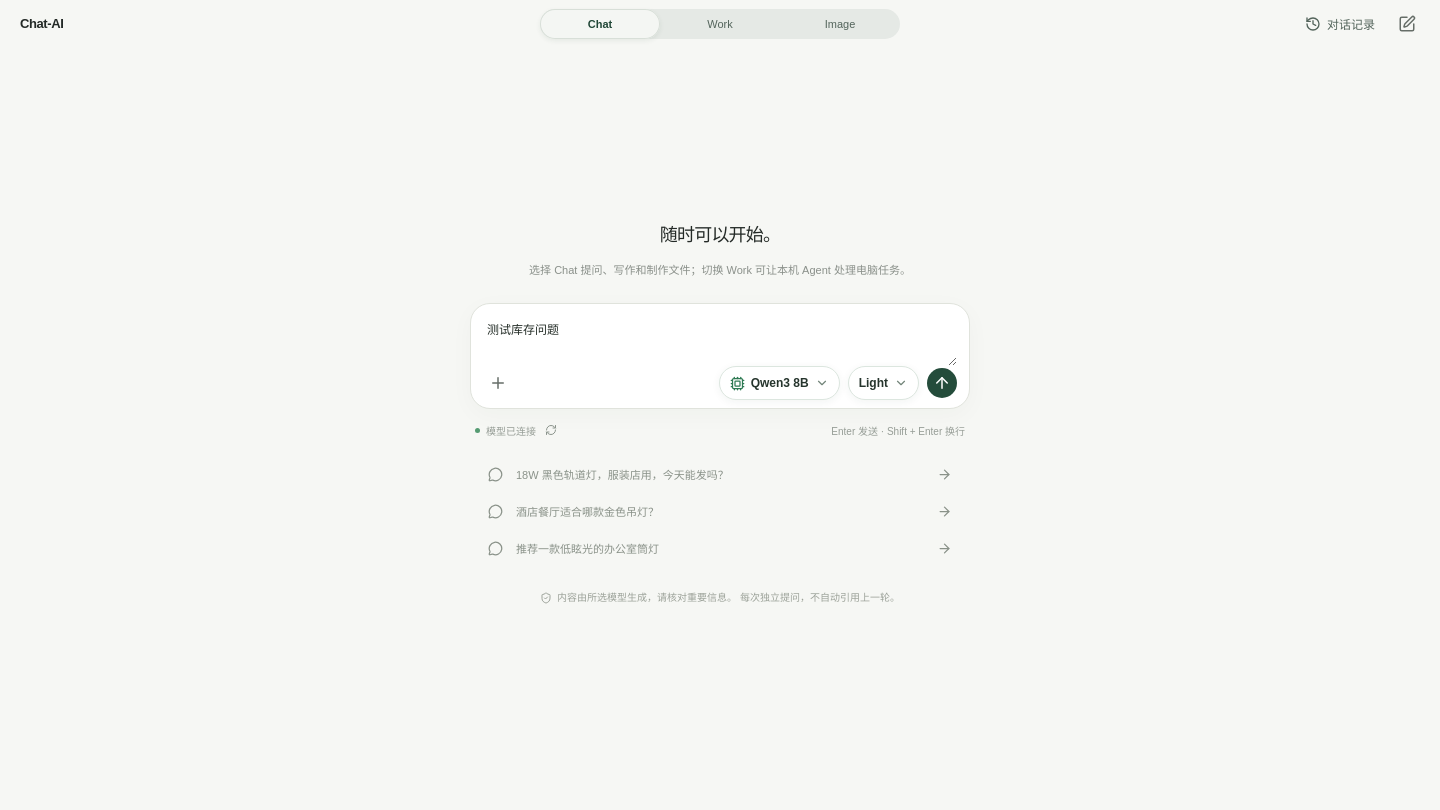
Scenario: smart search real-model entry › does not label length-exhausted output as a completed answer
expect the text "模型已连接" is shown: met, box [475,421,560,439]
expect the button named "新问题" is enabled: met, box [1392,10,1420,38]
Click the button named "发送问题": [942, 383] box [927,368,957,398]
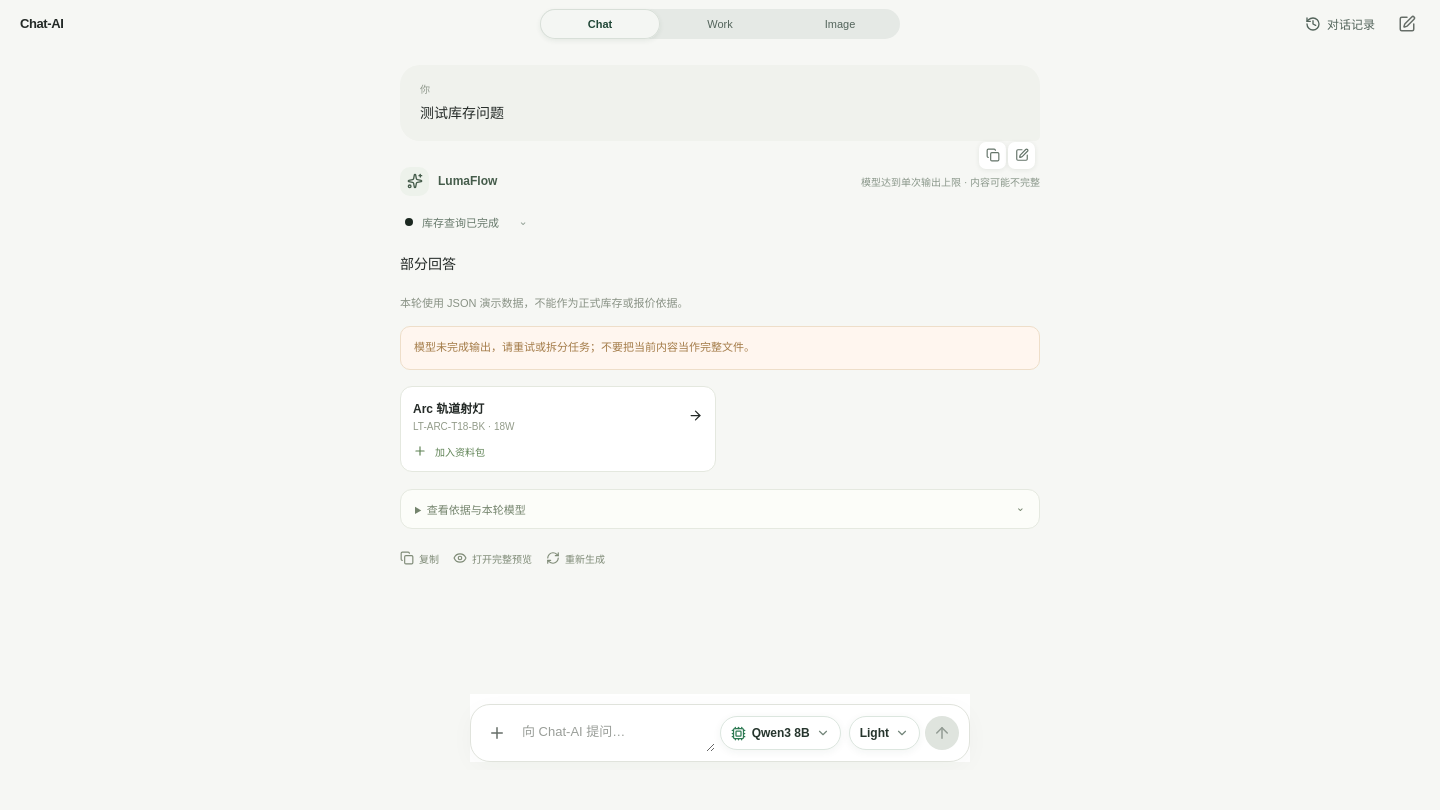
expect the text "模型达到单次输出上限 · 内容可能不完整" is shown: met, box [861,174,1040,189]
